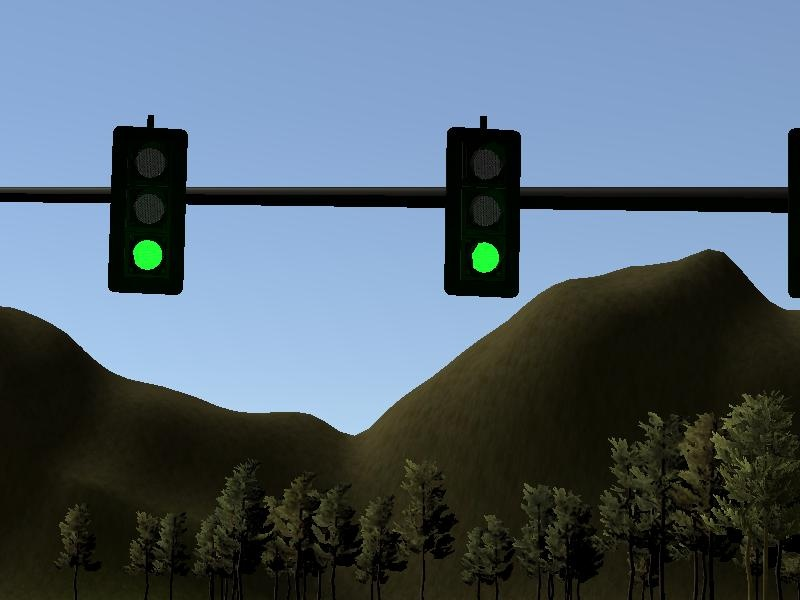GREEN: (445, 127, 522, 299), (109, 125, 186, 297)
